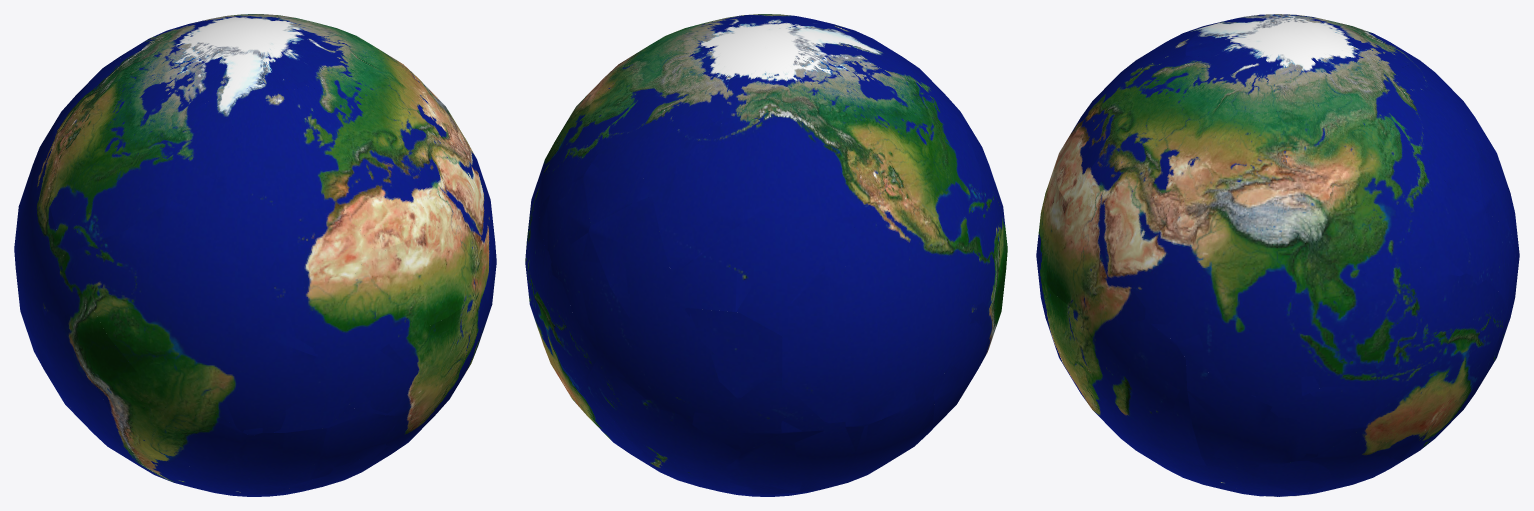
The model's file is earth.glb.
3 views of the same model, side by side, from view 1: azimuth 30°, elevation 25°; view 2: azimuth 150°, elevation 25°; view 3: azimuth 270°, elevation 25° (orthographic).
Parts seen in each view (by area): view 1: origin, Sphere001_cell.032, Sphere001_cell.026, Sphere001_cell.064, Sphere001_cell.070, Sphere001_cell.072, Sphere001_cell.074, Sphere001_cell.065, Sphere001_cell.007, Sphere001_cell.008, Sphere001_cell.039, Sphere001_cell.075 (+24 smaller); view 2: origin, Sphere001_cell.084, Sphere001_cell.032, Sphere001_cell.088, Sphere001_cell.061, Sphere001_cell.078, Sphere001_cell.003, Sphere001_cell.037, Sphere001_cell.054, Sphere001_cell.083, Sphere001_cell.026, Sphere001_cell.002 (+17 smaller); view 3: origin, Sphere001_cell.043, Sphere001_cell.086, Sphere001_cell.052, Sphere001_cell.058, Sphere001_cell.075, Sphere001_cell.045, Sphere001_cell.017, Sphere001_cell.006, Sphere001_cell.001, Sphere001_cell.028, Sphere001_cell.036 (+26 smaller).
Boxes of the visible parts, x1=… form: origin: x1=17, y1=14, x2=494, y2=492; Sphere001_cell.032: x1=47, y1=81, x2=211, y2=238; Sphere001_cell.026: x1=61, y1=100, x2=239, y2=255; Sphere001_cell.064: x1=68, y1=231, x2=262, y2=333; Sphere001_cell.070: x1=224, y1=89, x2=329, y2=192; Sphere001_cell.072: x1=266, y1=190, x2=373, y2=290; Sphere001_cell.074: x1=323, y1=143, x2=424, y2=248; Sphere001_cell.065: x1=95, y1=311, x2=217, y2=413; Sphere001_cell.007: x1=263, y1=337, x2=352, y2=432; Sphere001_cell.008: x1=74, y1=297, x2=189, y2=466; Sphere001_cell.039: x1=350, y1=305, x2=475, y2=416; Sphere001_cell.075: x1=424, y1=165, x2=494, y2=309; origin: x1=528, y1=17, x2=1005, y2=493; Sphere001_cell.084: x1=843, y1=214, x2=976, y2=426; Sphere001_cell.032: x1=822, y1=55, x2=966, y2=235; Sphere001_cell.088: x1=670, y1=175, x2=860, y2=312; Sphere001_cell.061: x1=652, y1=126, x2=816, y2=275; Sphere001_cell.078: x1=781, y1=249, x2=851, y2=432; Sphere001_cell.003: x1=591, y1=355, x2=741, y2=467; Sphere001_cell.037: x1=685, y1=308, x2=782, y2=398; Sphere001_cell.054: x1=588, y1=196, x2=672, y2=318; Sphere001_cell.083: x1=612, y1=90, x2=717, y2=185; Sphere001_cell.026: x1=871, y1=50, x2=982, y2=244; Sphere001_cell.002: x1=726, y1=426, x2=863, y2=493; origin: x1=1036, y1=14, x2=1518, y2=488; Sphere001_cell.043: x1=1150, y1=195, x2=1304, y2=342; Sphere001_cell.086: x1=1208, y1=173, x2=1366, y2=288; Sphere001_cell.052: x1=1084, y1=319, x2=1205, y2=465; Sphere001_cell.058: x1=1366, y1=269, x2=1463, y2=395; Sphere001_cell.075: x1=1064, y1=189, x2=1157, y2=330; Sphere001_cell.045: x1=1360, y1=146, x2=1447, y2=286; Sphere001_cell.017: x1=1186, y1=360, x2=1258, y2=470; Sphere001_cell.006: x1=1275, y1=136, x2=1367, y2=242; Sphere001_cell.001: x1=1297, y1=360, x2=1397, y2=460; Sphere001_cell.028: x1=1176, y1=288, x2=1370, y2=396; Sphere001_cell.036: x1=1081, y1=151, x2=1178, y2=234.
Size of the model in its own units: 97.17 by 97.17 by 97.17.
1 material, 1 textured.
